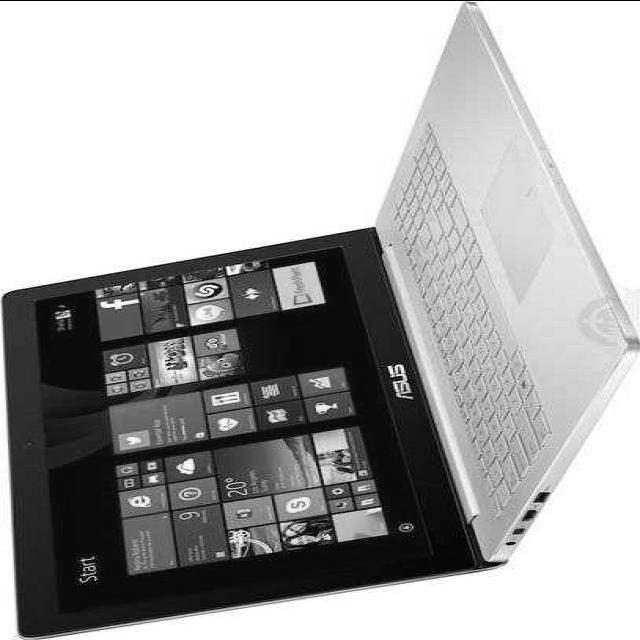laptop: (8, 0, 604, 633)
